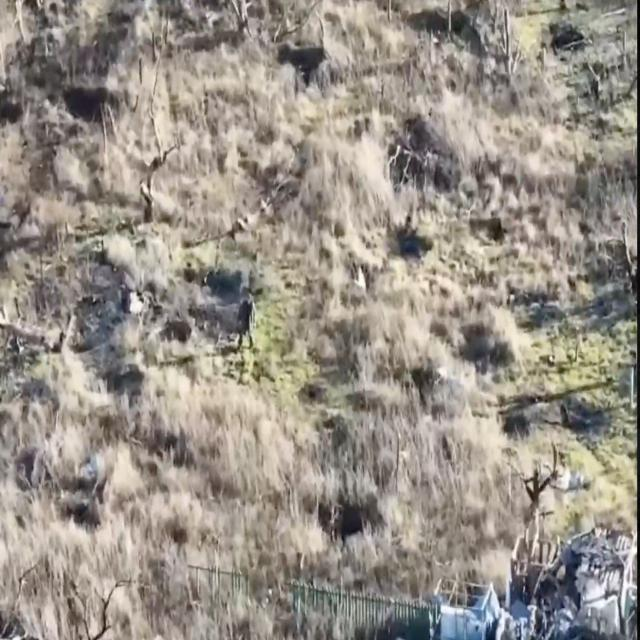infantry: (235, 289, 260, 351)
